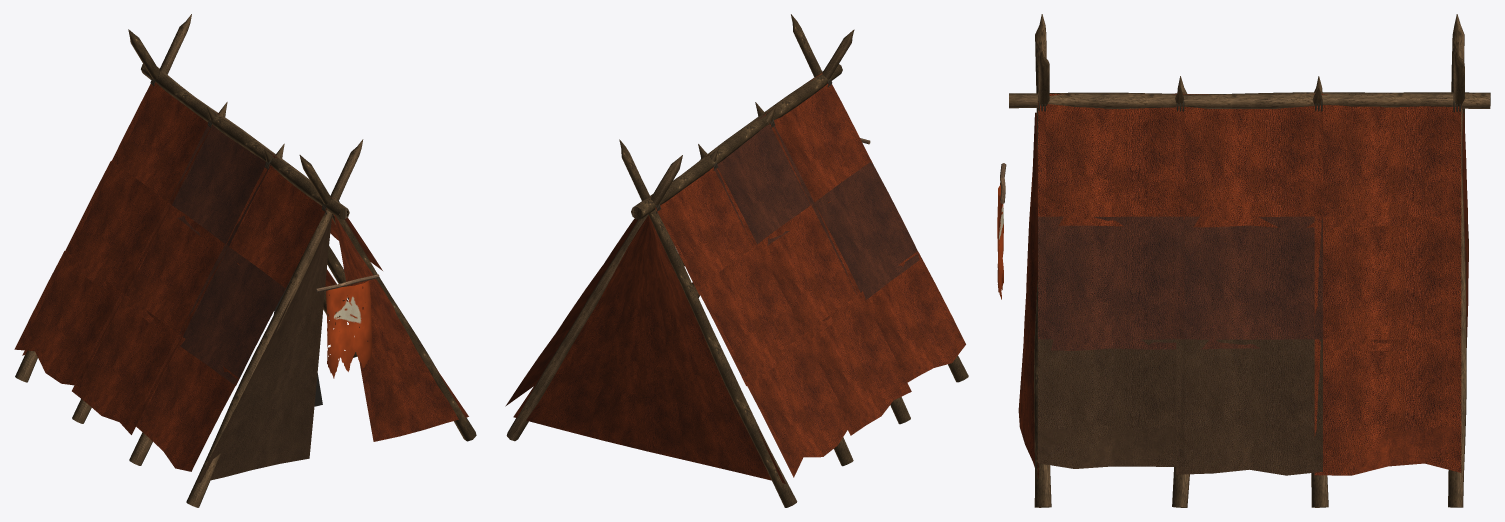
File: SM_Bld_Red_Hut.gltf
3 views of the same model, side by side, from view 1: azimuth 30°, elevation 25°; view 2: azimuth 150°, elevation 25°; view 3: azimuth 270°, elevation 25° (orthographic). The views are drawn at different scales.
Visible parts, largest first — view 1: SM_Bld_Red_Hut; view 2: SM_Bld_Red_Hut; view 3: SM_Bld_Red_Hut.
Boxes of the visible parts, <box> form: SM_Bld_Red_Hut: <box>14,14,476,507</box>; SM_Bld_Red_Hut: <box>505,14,968,507</box>; SM_Bld_Red_Hut: <box>997,14,1490,507</box>.
Bounding box in the file's own units: 4.88 × 5.26 × 5.94.
8 materials, 7 textured.
